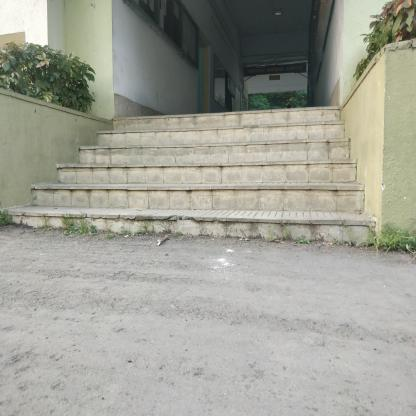stairs: (92, 129, 337, 255)
